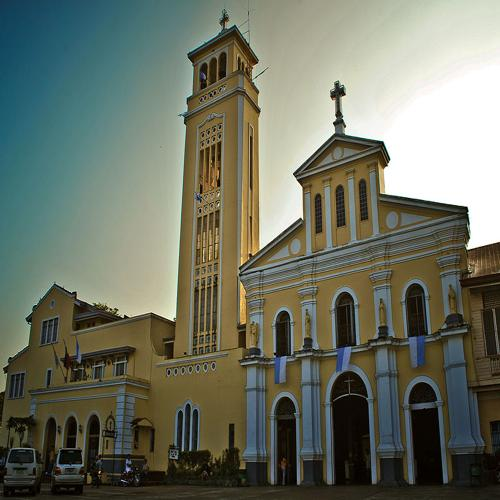Manaoag Church: (161, 10, 476, 487)
